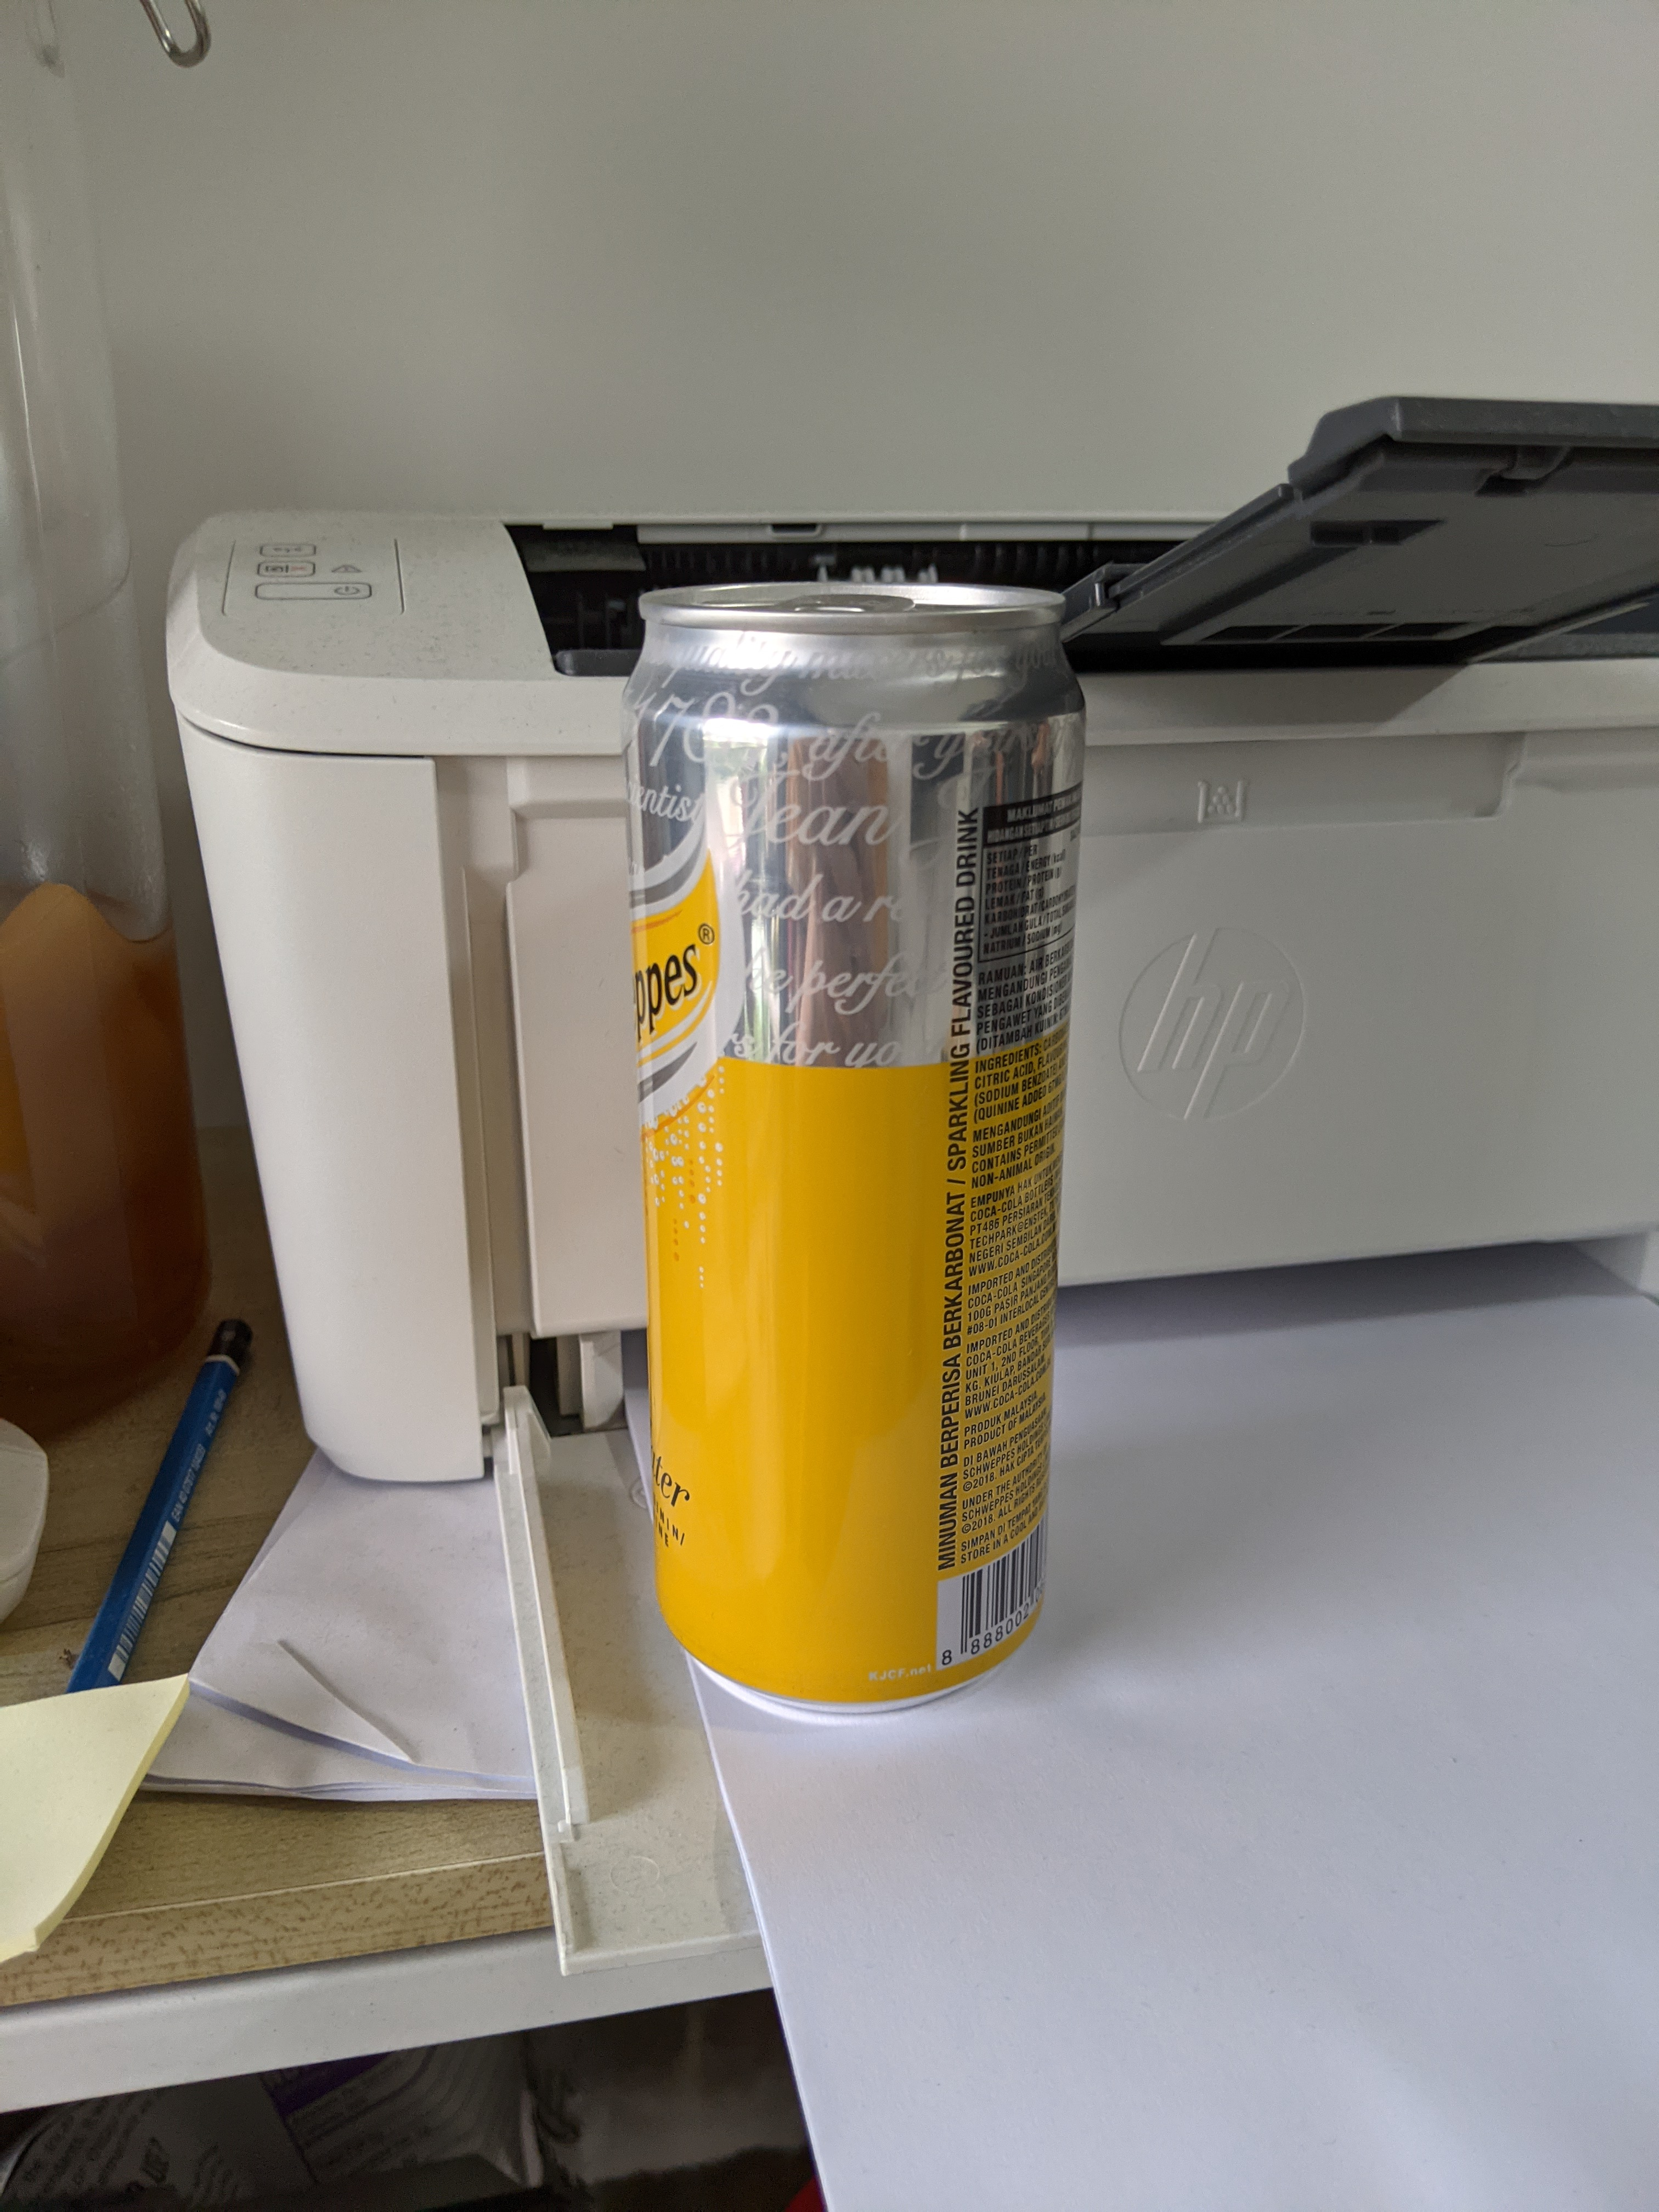schweppes drink can tonic water: (605, 557, 1103, 1750)
